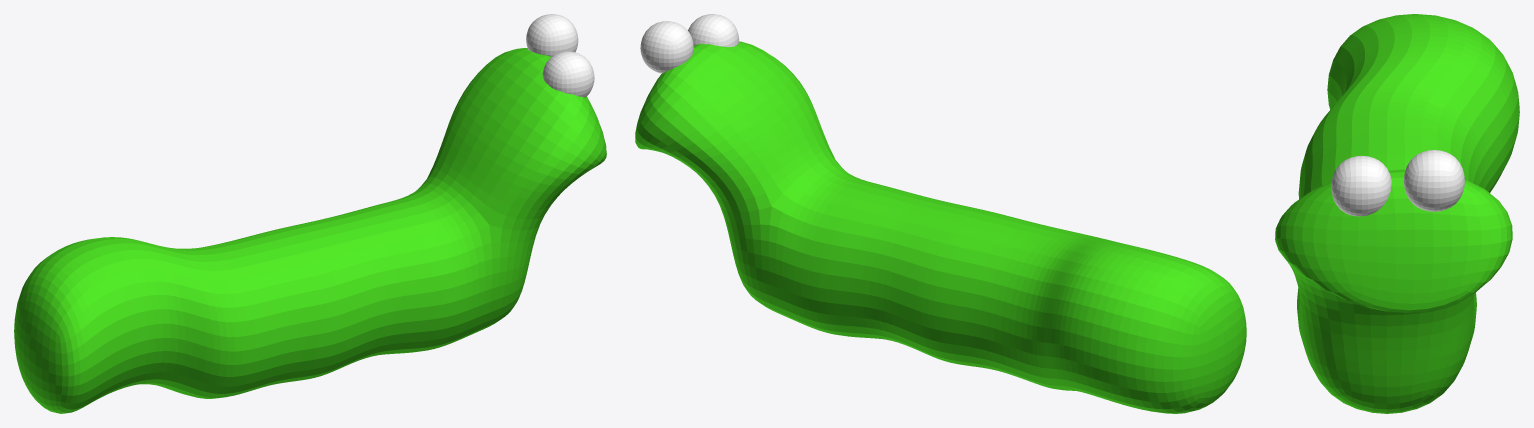
The model's file is bug2.fbx.
The picture shows the model from 3 angles, left to right: view 1: azimuth 30°, elevation 25°; view 2: azimuth 150°, elevation 25°; view 3: azimuth 270°, elevation 25°; orthographic projection. The views are drawn at different scales.
Visible parts, largest first — view 1: Eyes; view 2: Eyes; view 3: Eyes.
Part boxes in pixels (x1,y1,x2,y2): Eyes: (14,14,606,413); Eyes: (635,14,1246,413); Eyes: (1275,14,1519,413).
Size of the model in its own units: 356 by 167 by 113.
